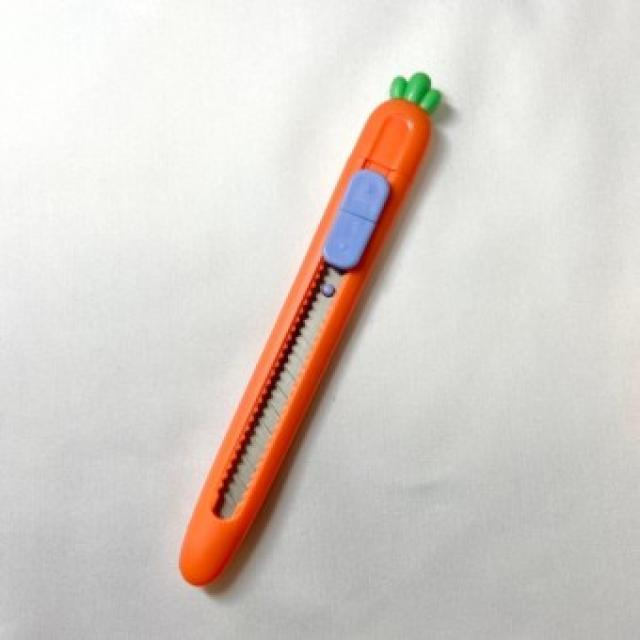cutter: (166, 69, 442, 597)
